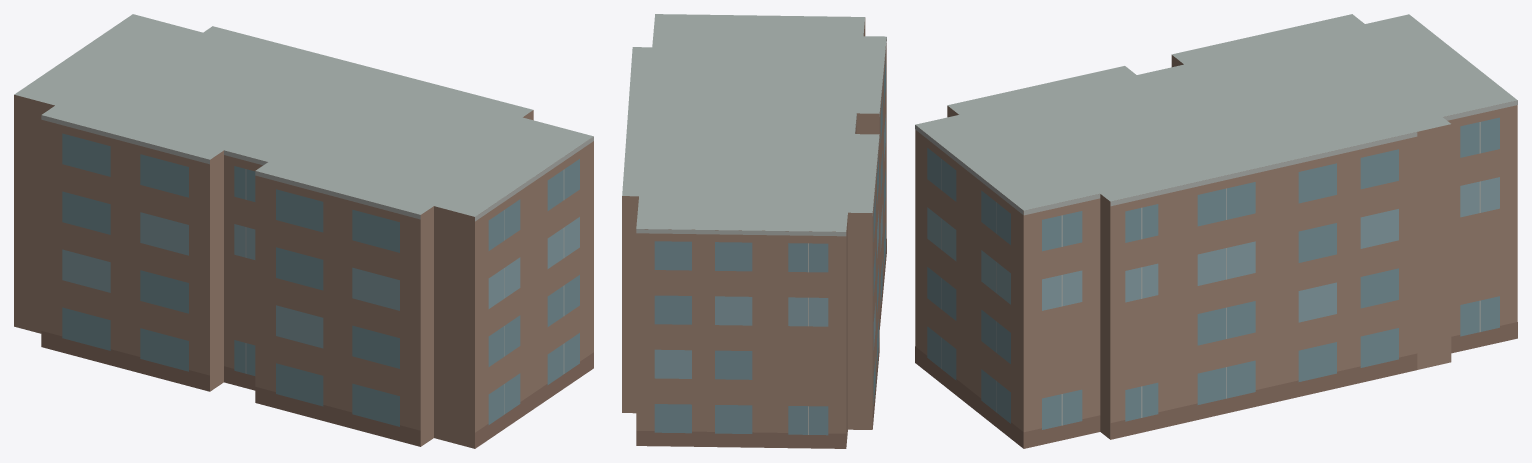
The model's file is survey-upis-32849027.glb.
The picture shows the model from 3 angles, left to right: view 1: azimuth 30°, elevation 25°; view 2: azimuth 150°, elevation 25°; view 3: azimuth 270°, elevation 25°; orthographic projection. The views are drawn at different scales.
Visible parts, largest first — view 1: survey-upis-32849027.tmp; view 2: survey-upis-32849027.tmp; view 3: survey-upis-32849027.tmp.
Boxes of the visible parts, bbox=[...] form: survey-upis-32849027.tmp: bbox=[14, 14, 593, 448]; survey-upis-32849027.tmp: bbox=[622, 14, 886, 448]; survey-upis-32849027.tmp: bbox=[915, 14, 1517, 448].
Size of the model in its own units: 21.61 by 12.2 by 27.98.
